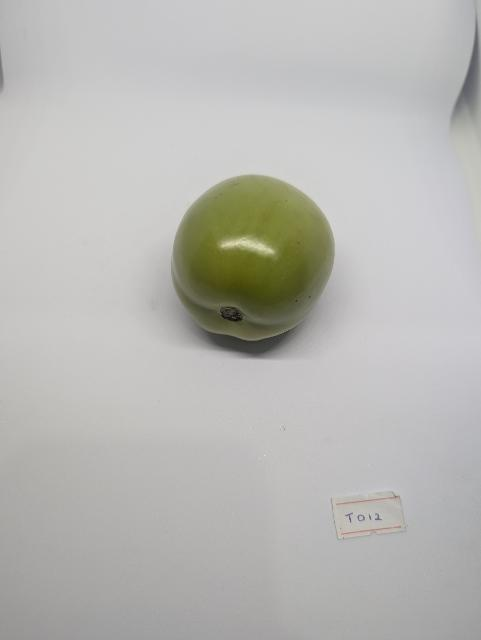green: (171, 169, 340, 346)
